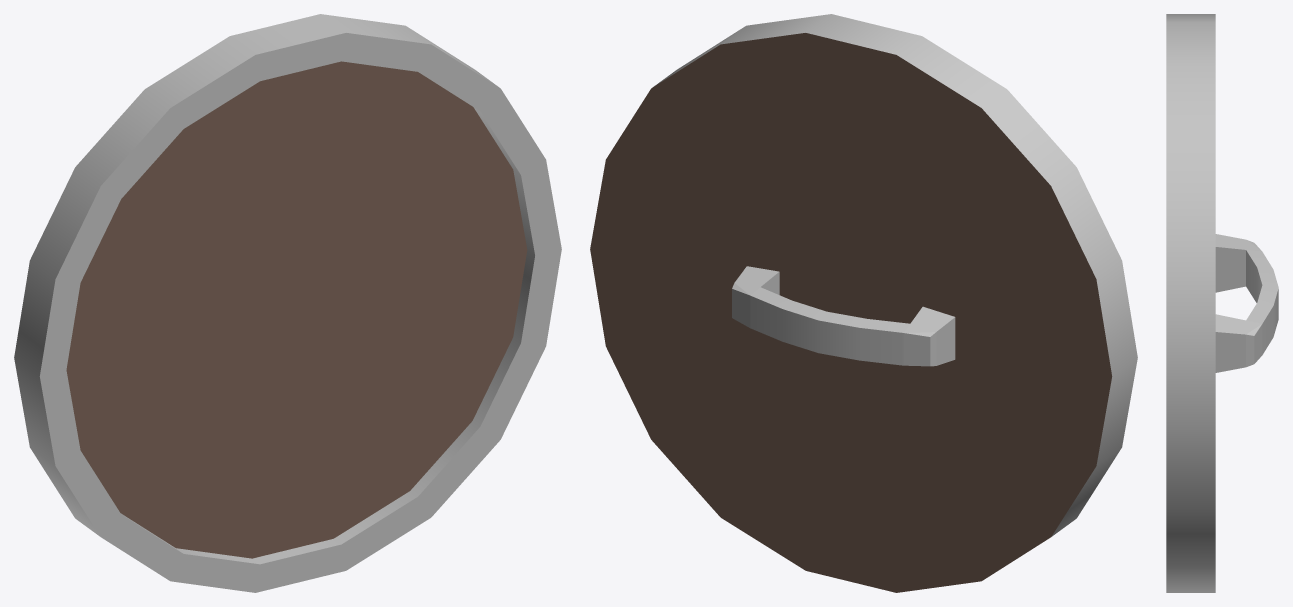
Rendered from Escudo 1.fbx.
3 views of the same model, side by side, from view 1: azimuth 30°, elevation 25°; view 2: azimuth 150°, elevation 25°; view 3: azimuth 270°, elevation 25° (orthographic). The views are drawn at different scales.
Parts seen in each view (by area): view 1: Cylinder534; view 2: Cylinder534; view 3: Cylinder534.
Boxes of the visible parts, x1,y1,x2,y2 form: Cylinder534: (14,14,561,592); Cylinder534: (590,14,1137,592); Cylinder534: (1166,14,1278,592).
Bounding box in the file's own units: 79 × 77.8 × 15.3.
